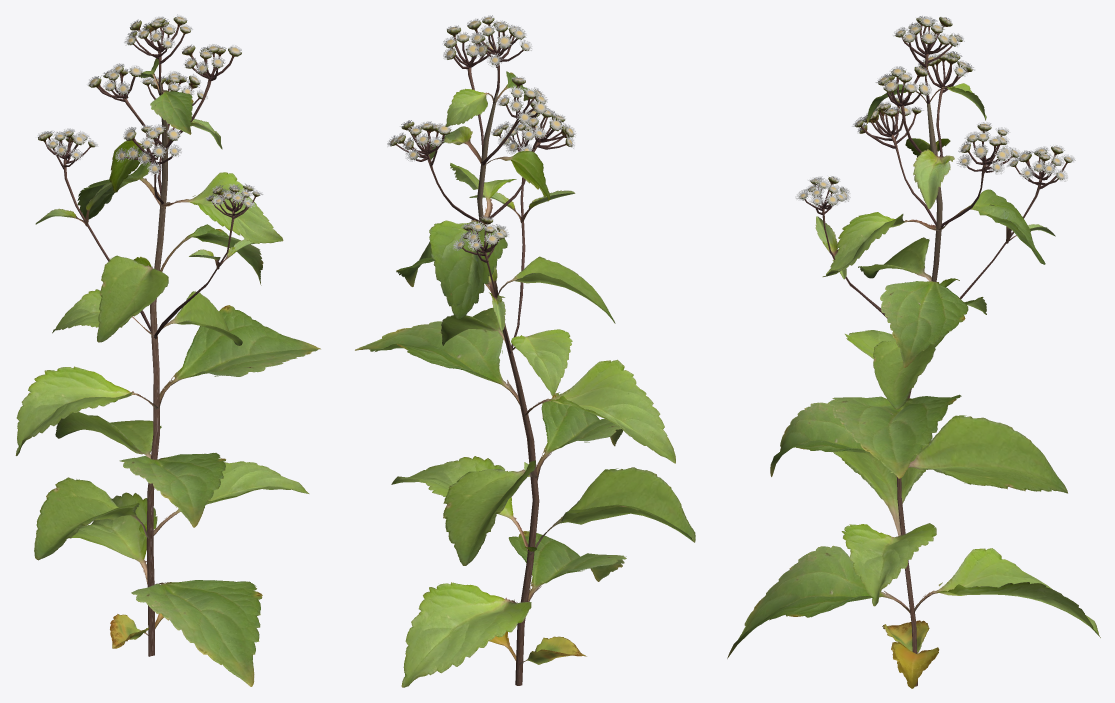
Rendered from rooted-shrub.glb.
The picture shows the model from 3 angles, left to right: view 1: azimuth 30°, elevation 25°; view 2: azimuth 150°, elevation 25°; view 3: azimuth 270°, elevation 25°; orthographic projection. The views are drawn at different scales.
Visible parts, largest first — view 1: shrub_01_complete_rooted_a; view 2: shrub_01_complete_rooted_a; view 3: shrub_01_complete_rooted_a.
Boxes of the visible parts, x1,y1,x2,y2 form: shrub_01_complete_rooted_a: (15,14,320,686); shrub_01_complete_rooted_a: (355,15,695,687); shrub_01_complete_rooted_a: (727,16,1100,688).
Size of the model in its own units: 0.1765 by 0.346 by 0.1751.
1 material, 1 textured.
